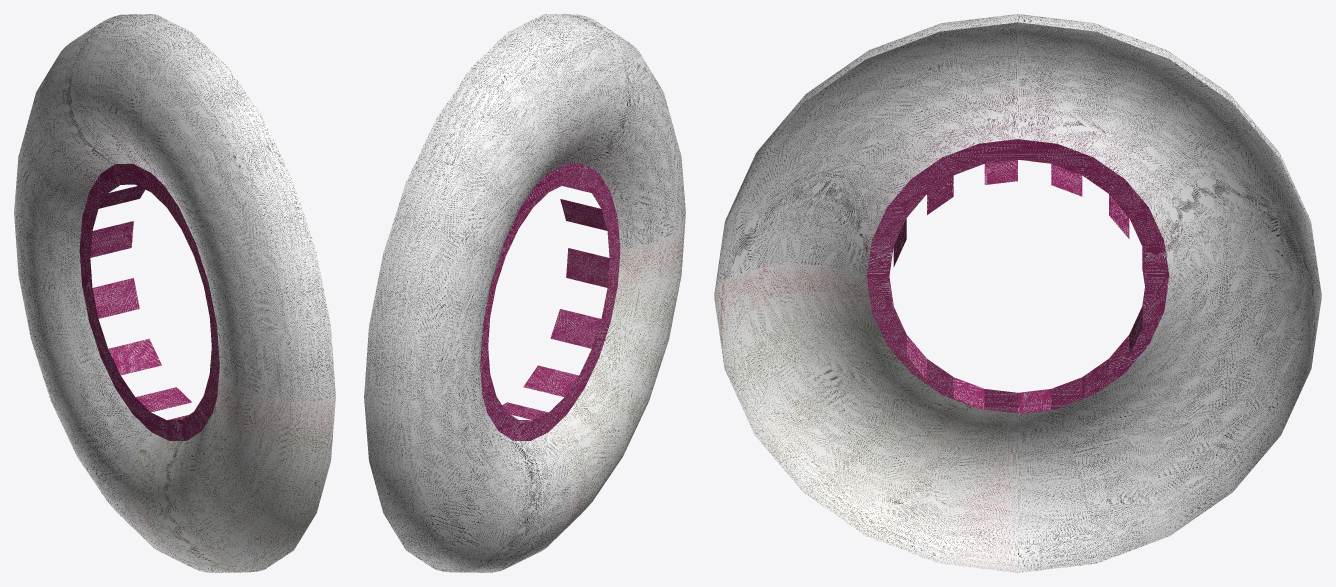
The model's file is original-17.obj.
The picture shows the model from 3 angles, left to right: view 1: azimuth 30°, elevation 25°; view 2: azimuth 150°, elevation 25°; view 3: azimuth 270°, elevation 25°; orthographic projection. The views are drawn at different scales.
Parts seen in each view (by area): view 1: mesh4/mesh4-geometry#mesh4-geometry; view 2: mesh4/mesh4-geometry#mesh4-geometry; view 3: mesh4/mesh4-geometry#mesh4-geometry.
Boxes of the visible parts, x1,y1,x2,y2 form: mesh4/mesh4-geometry#mesh4-geometry: [14, 14, 335, 572]; mesh4/mesh4-geometry#mesh4-geometry: [364, 14, 685, 572]; mesh4/mesh4-geometry#mesh4-geometry: [714, 14, 1321, 572].
Bounding box in the file's own units: 0.0355 × 0.2739 × 0.2739.
